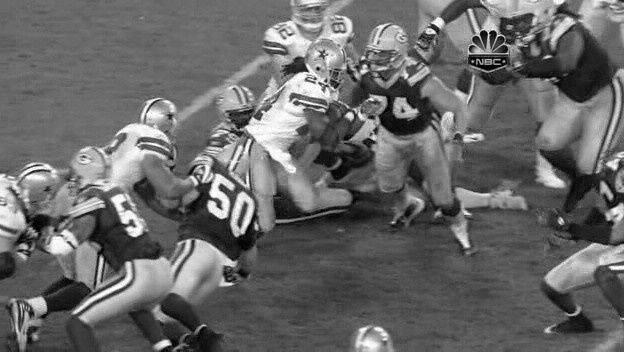person: (314, 39, 348, 83), (313, 39, 347, 83), (315, 39, 349, 83), (314, 38, 348, 82), (314, 40, 348, 84)
target_negative: (154, 227, 530, 338), (177, 299, 469, 334), (410, 162, 617, 191), (501, 278, 620, 323), (514, 106, 536, 152), (598, 129, 605, 247)
